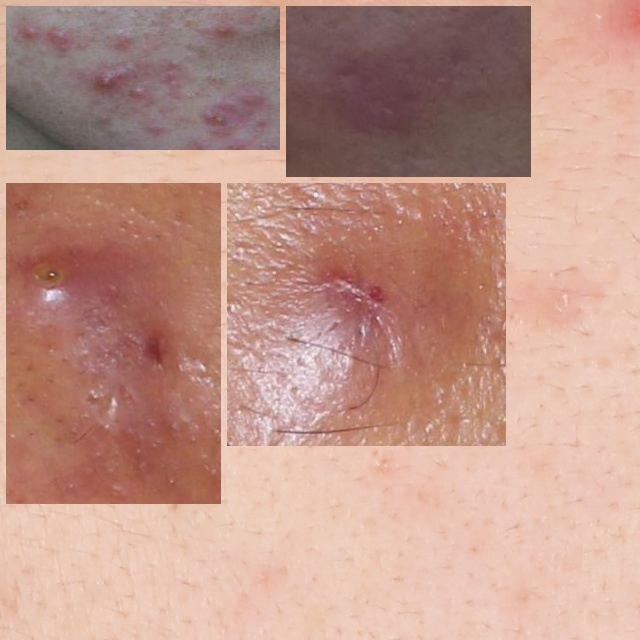nodule: (235, 191, 498, 438), (14, 191, 213, 496), (294, 14, 523, 169), (14, 14, 272, 142)
